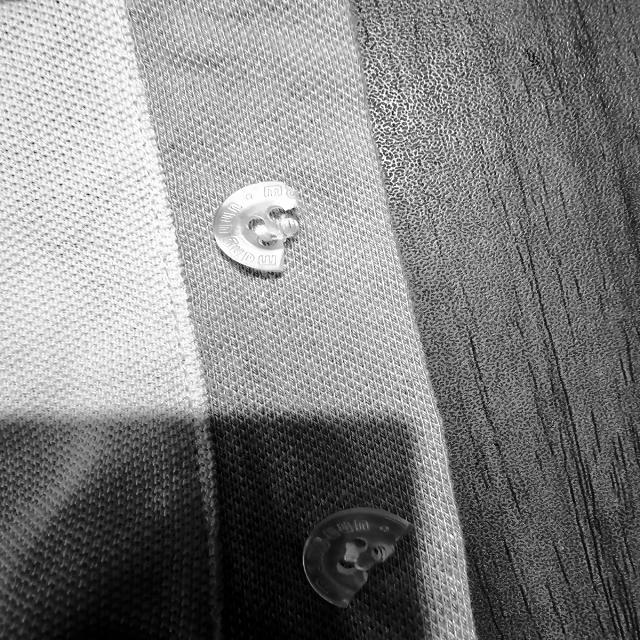Broken_button: (294, 496, 422, 614), (203, 172, 315, 278)
